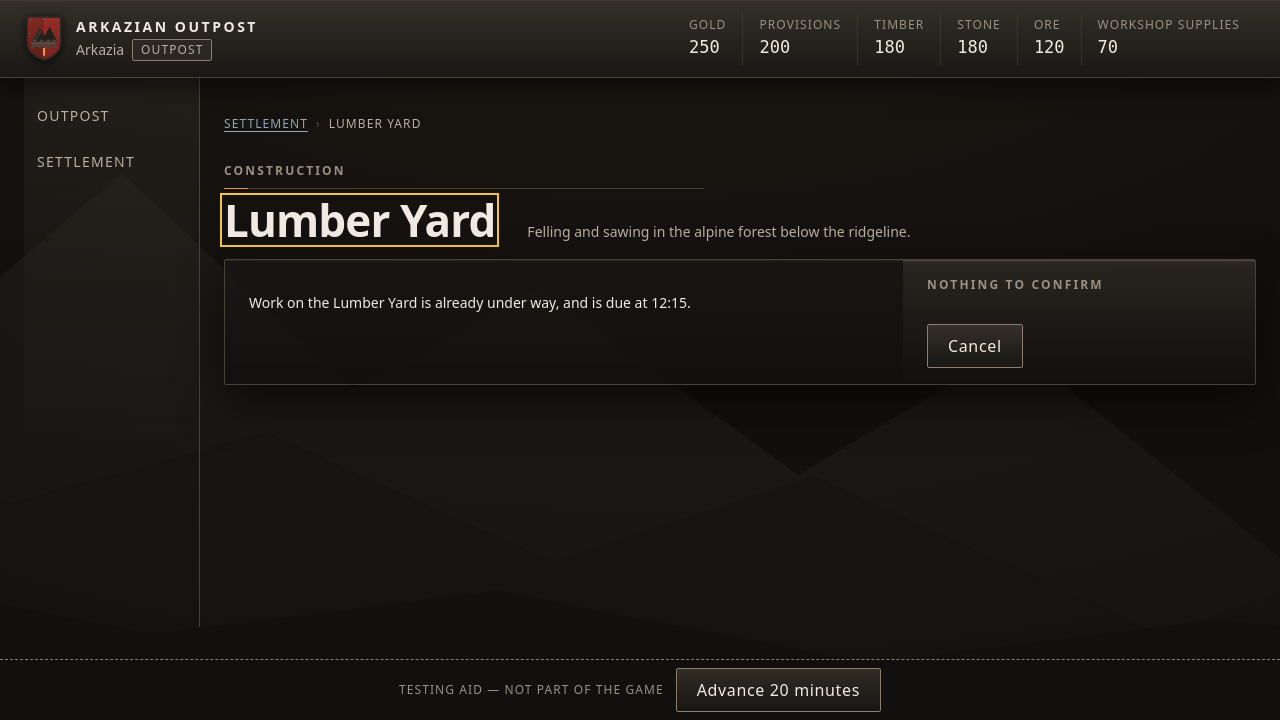
Test: Construction — sites that cannot be raised › says a completed site is already standing, and offers no confirm
Expected: the heading "Lumber Yard" is shown, [224, 196, 495, 243]
Click the button "Advance 20 minutes".
click(778, 690)  # box [676, 668, 881, 712]
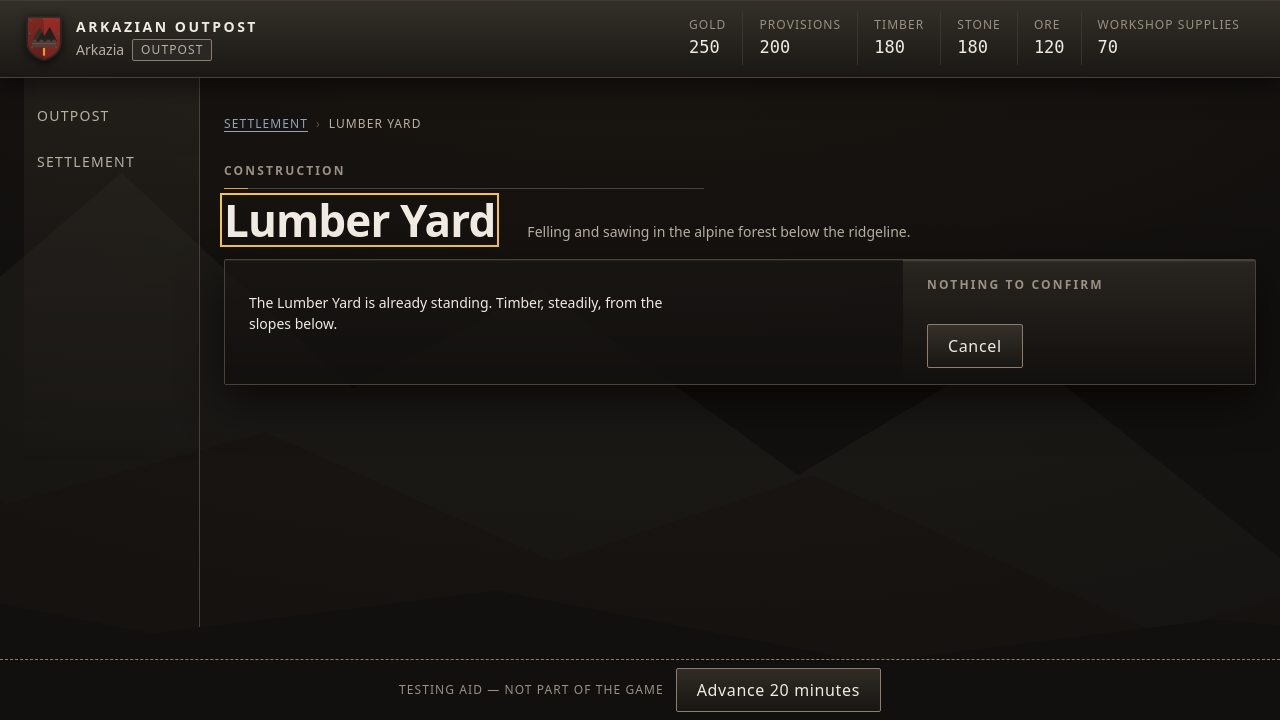
Expected: the text "already standing" is shown, [249, 293, 662, 333]
